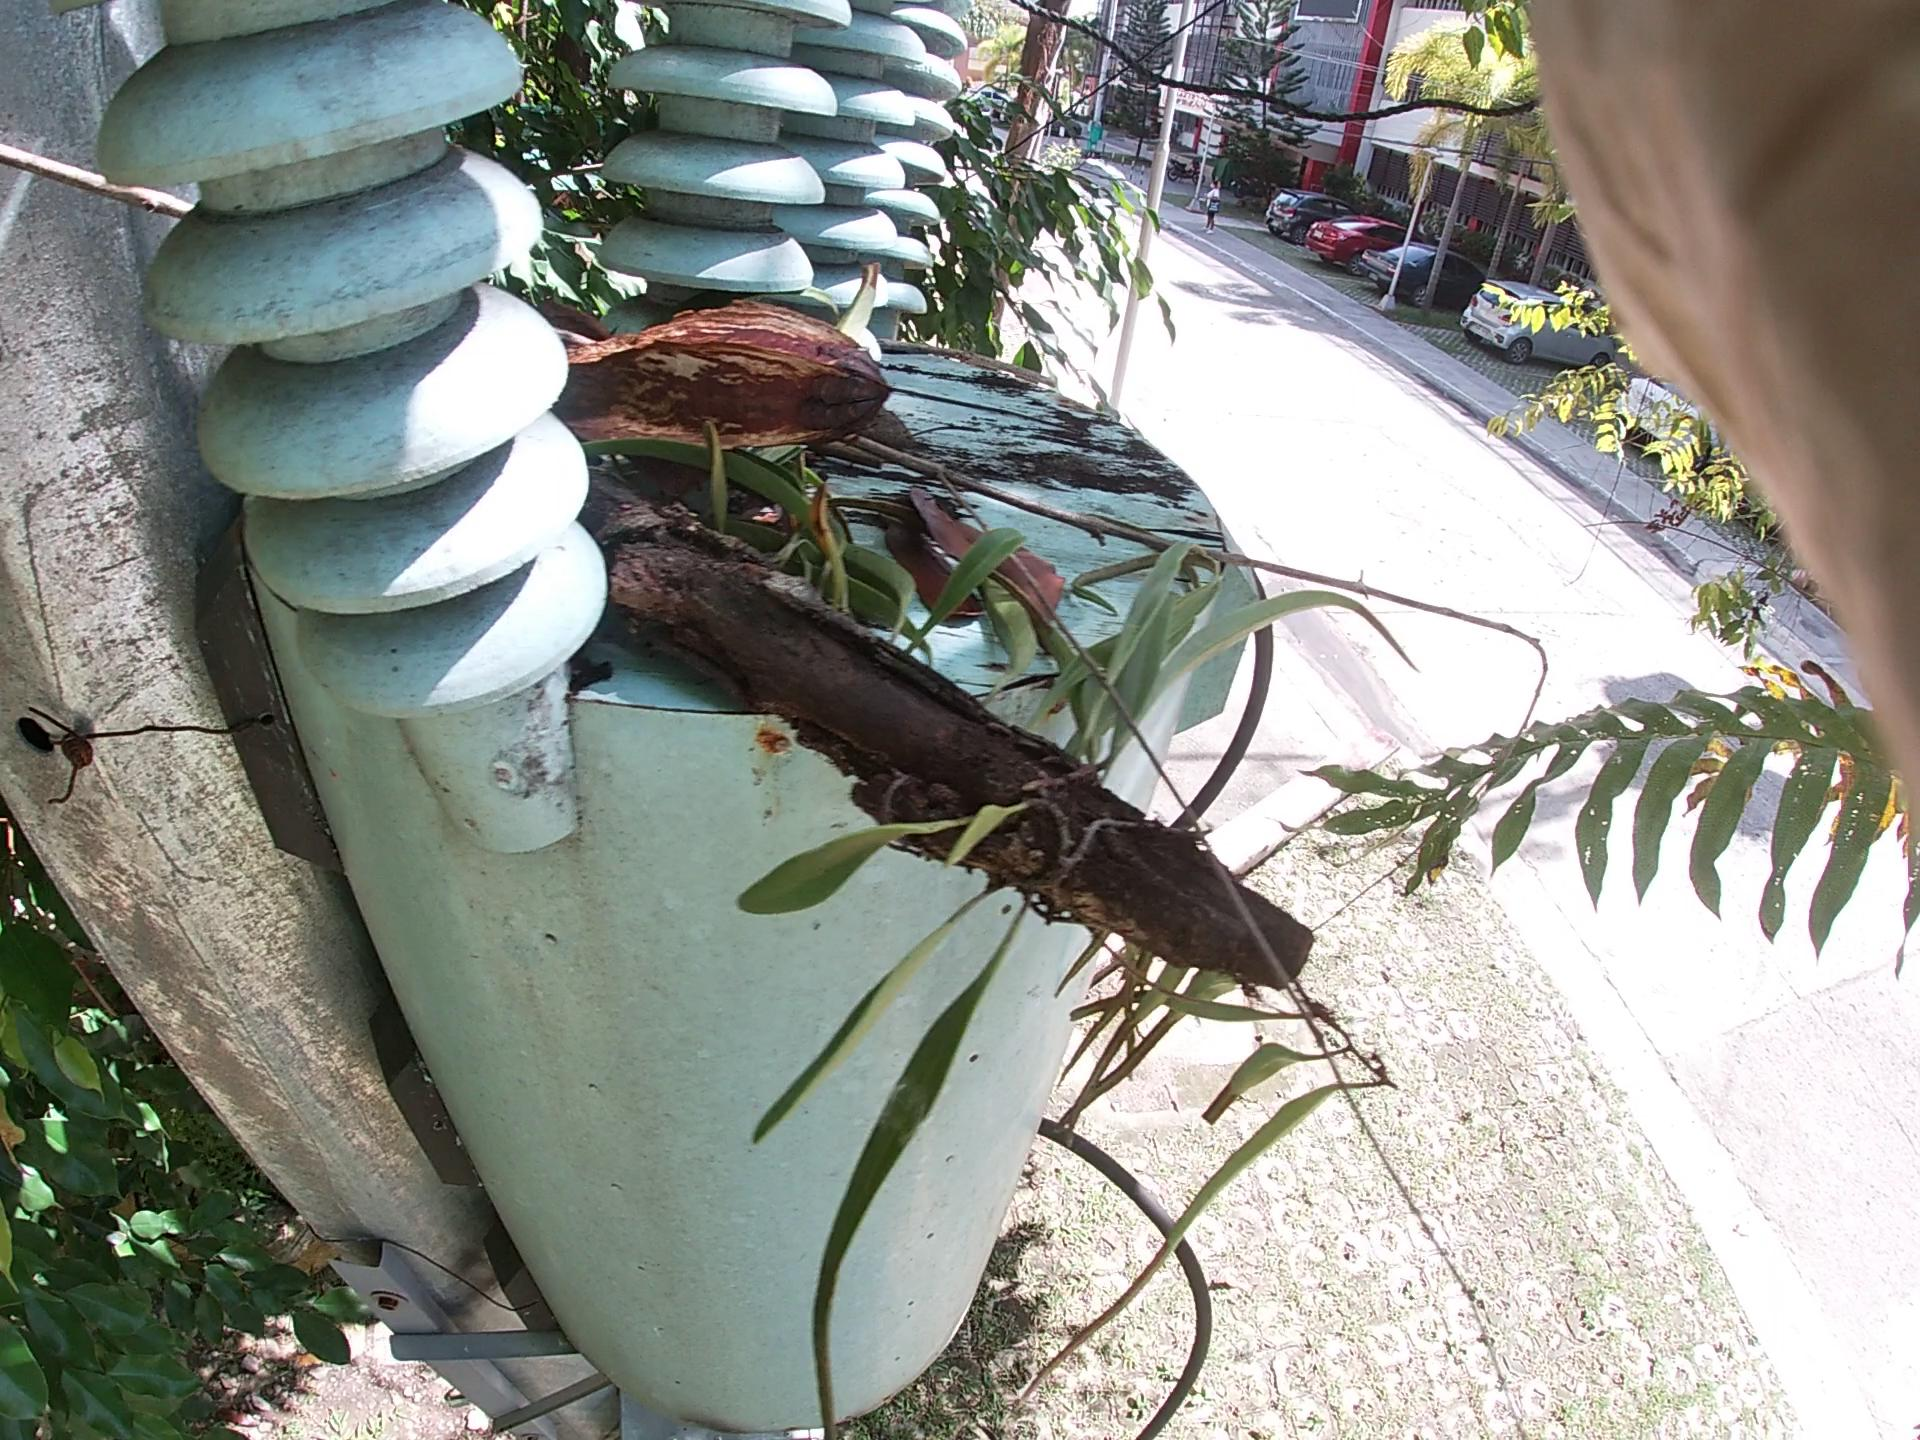branch with leaves: (553, 374, 1252, 909)
leaf: (910, 476, 1190, 773)
tree branch: (29, 124, 1491, 756), (514, 286, 909, 486), (919, 337, 1110, 437)
